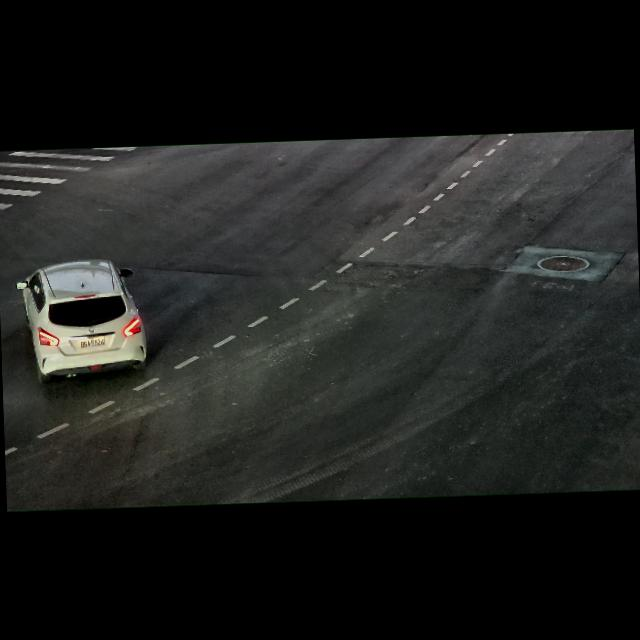car: (13, 250, 161, 392)
license_plate: (79, 336, 105, 349)
nissan: (86, 327, 94, 335)
